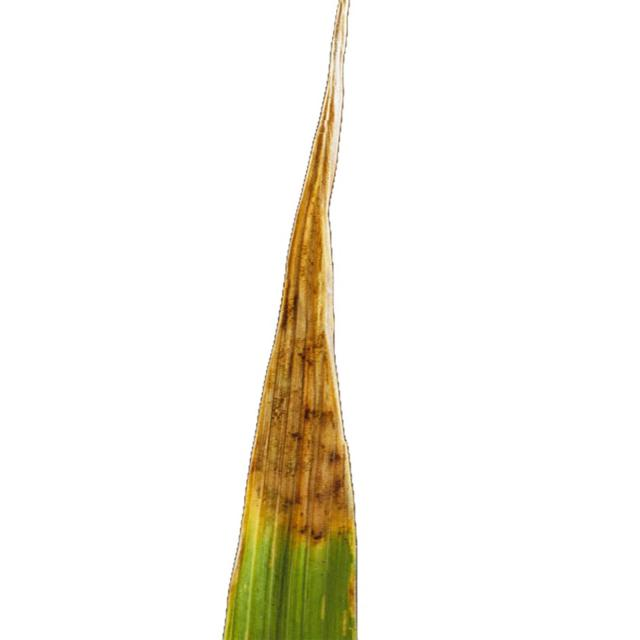Leaf blast: (198, 0, 453, 640)
